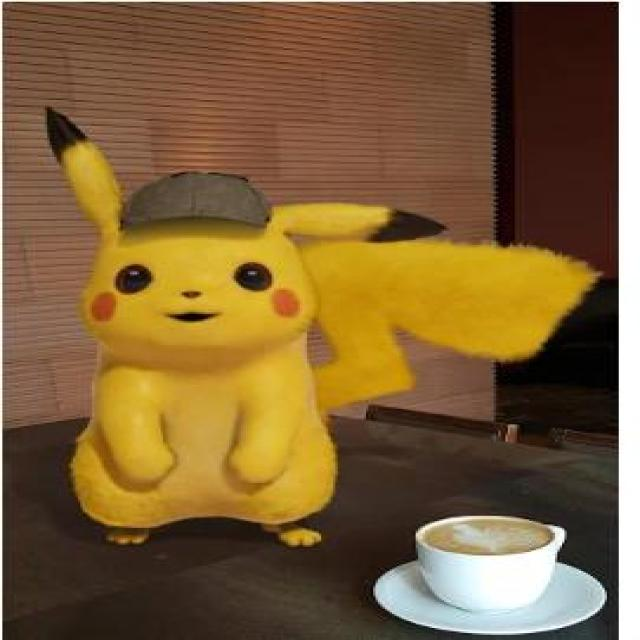pikachu: (46, 107, 597, 544)
